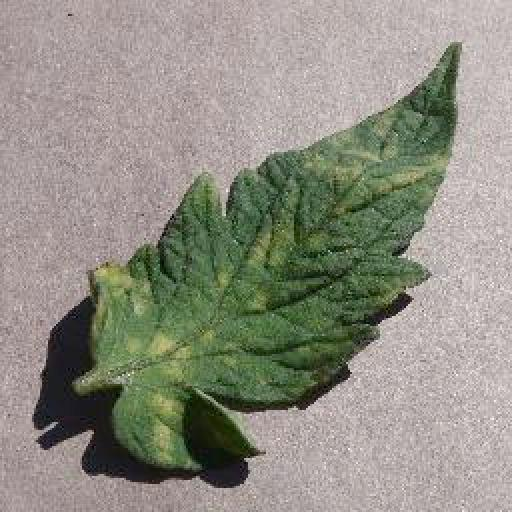disease_tomato: (92, 40, 462, 474)
